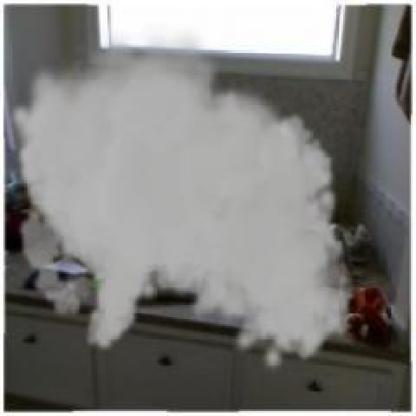Smoke: (7, 21, 355, 374)
